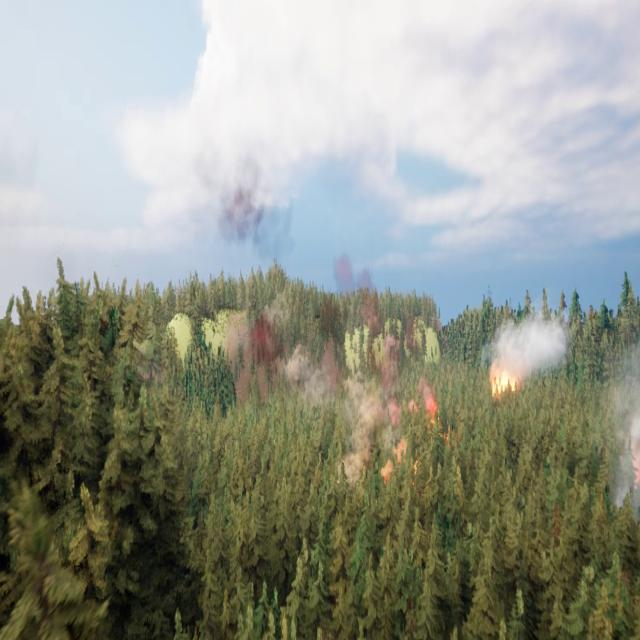fire: (383, 395, 449, 467), (494, 374, 522, 402)
smoke: (206, 152, 418, 440), (488, 308, 569, 384), (606, 340, 640, 514)
